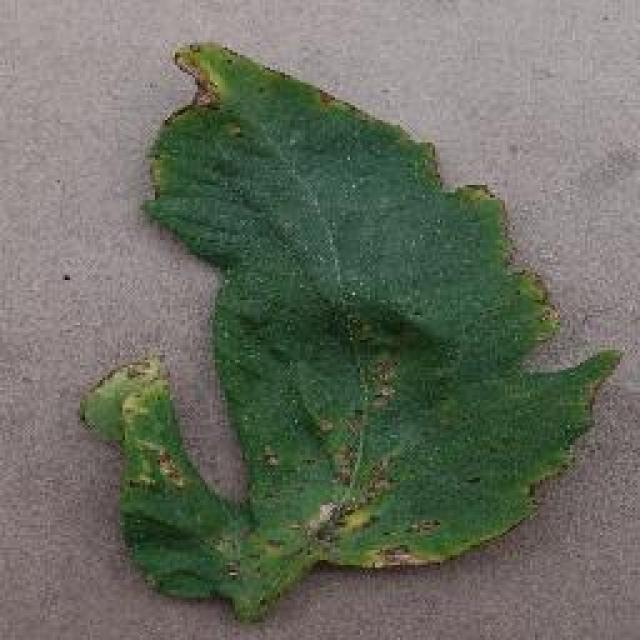Tomato bacterial spot leaf: (71, 29, 632, 632)
